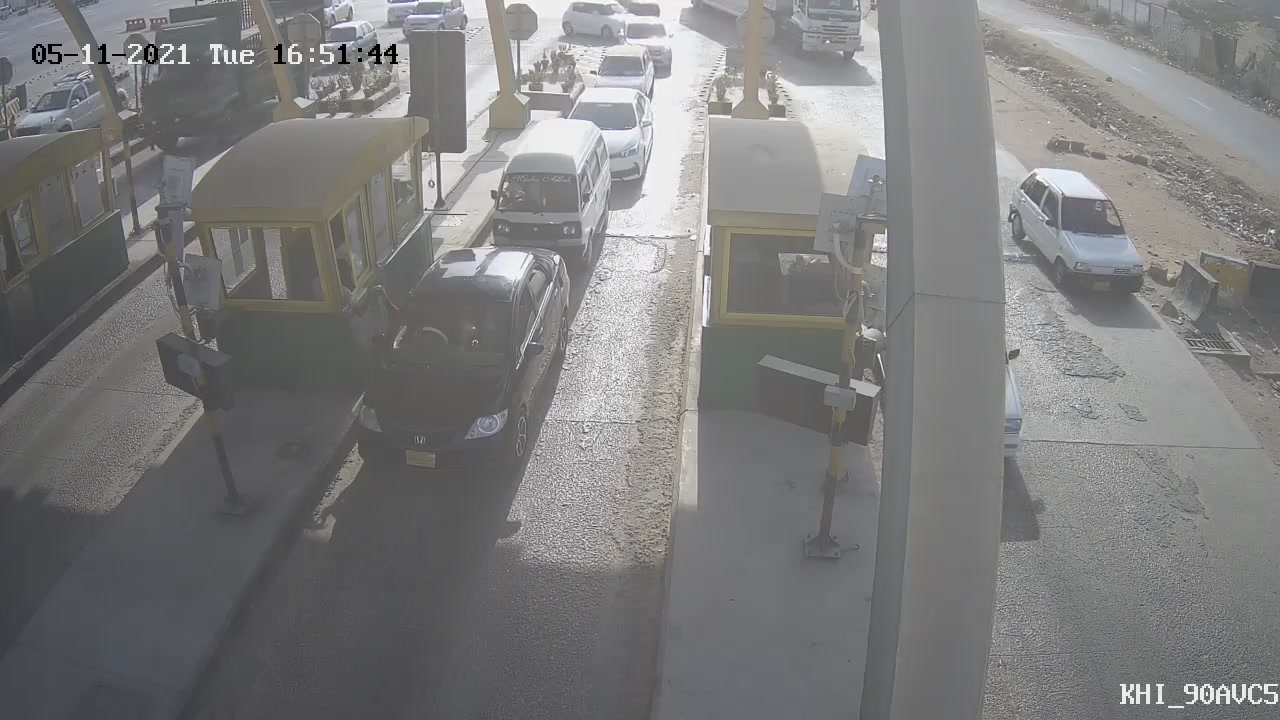F1: (334, 231, 585, 504), (473, 107, 627, 290)
